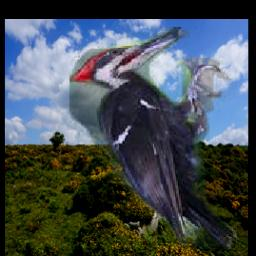Woodpecker: (69, 28, 237, 250)
